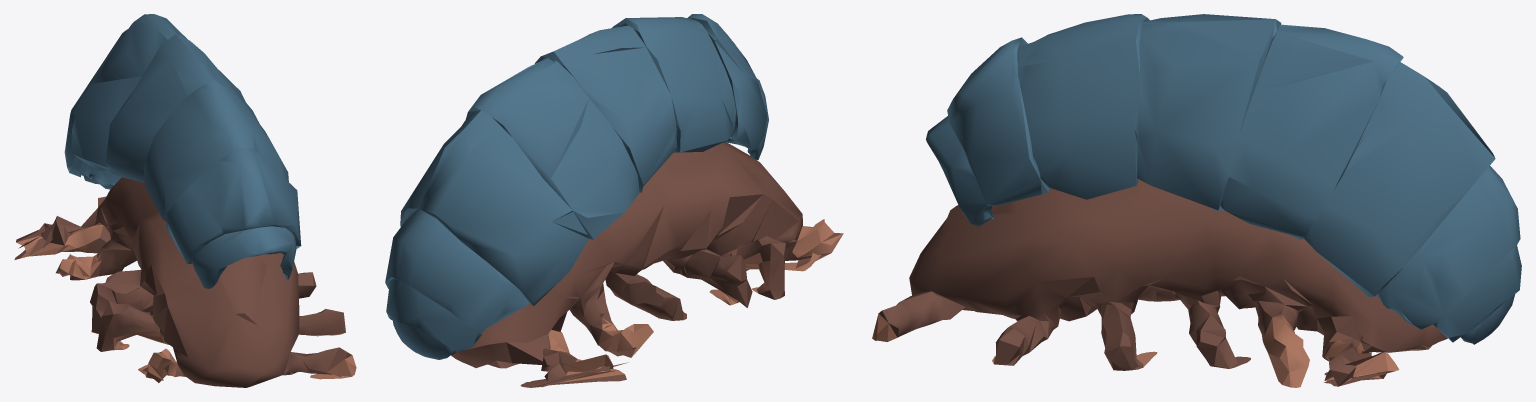
Rendered from big-spitter-corpse.glb.
3 views of the same model, side by side, from view 1: azimuth 30°, elevation 25°; view 2: azimuth 150°, elevation 25°; view 3: azimuth 270°, elevation 25° (orthographic). The views are drawn at different scales.
Parts seen in each view (by area): view 1: body; view 2: body; view 3: body.
Boxes of the visible parts, x1,y1,x2,y2 form: body: (14,14,356,387); body: (385,14,843,387); body: (872,14,1521,387).
Bounding box in the file's own units: 1.95 × 1.8 × 3.47.
